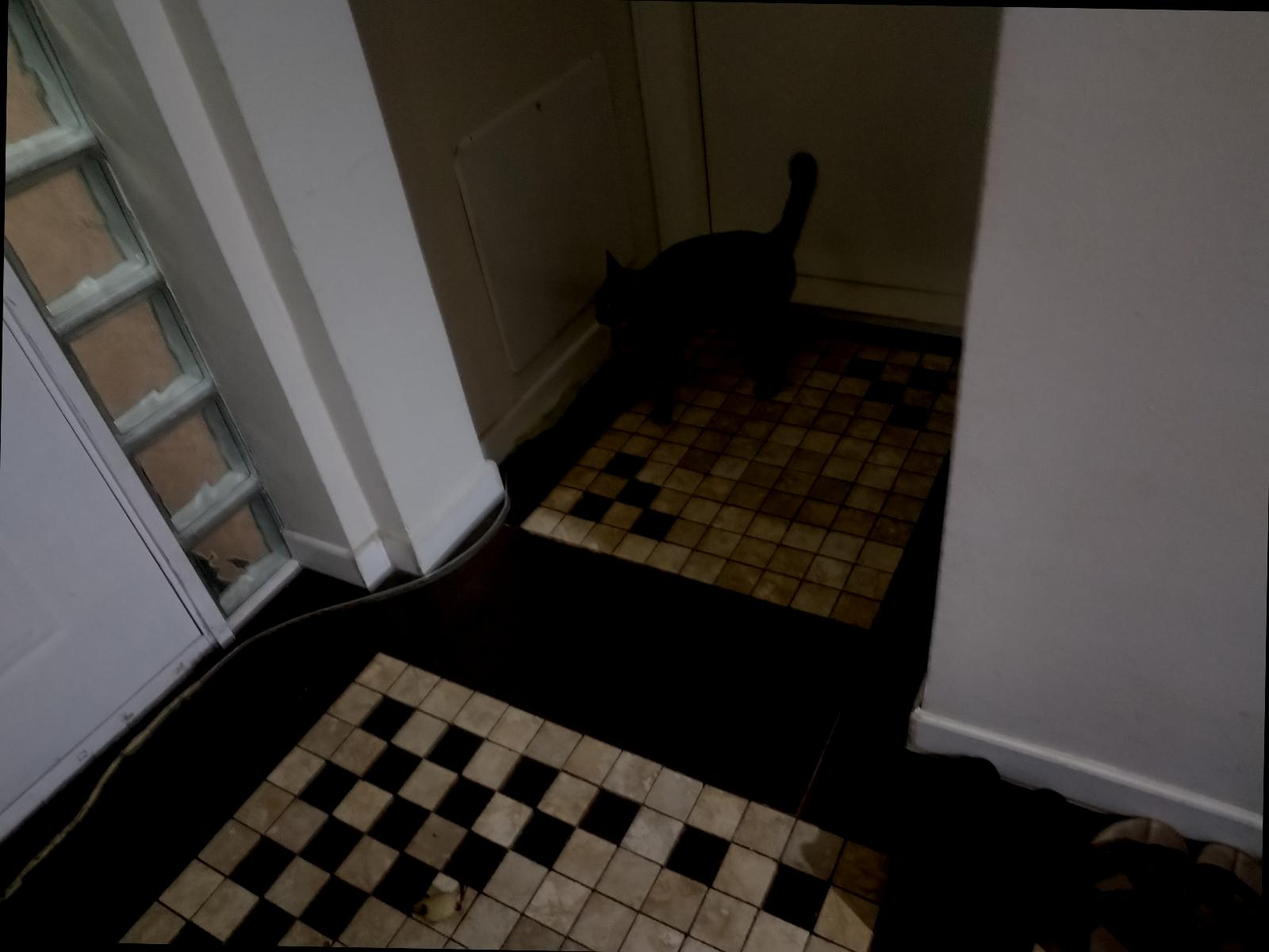macka: (584, 141, 827, 432)
